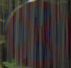No Stopping: (8, 3, 62, 56)
